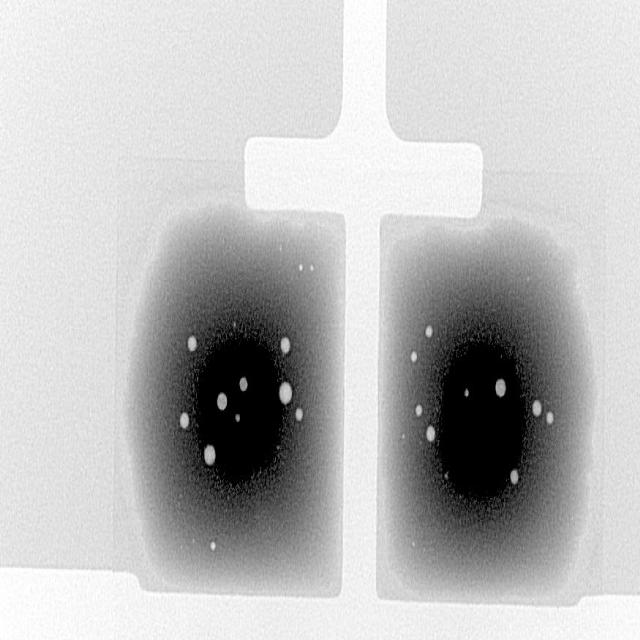component: (113, 162, 607, 601)
void: (279, 381, 293, 405), (204, 444, 216, 465), (496, 378, 508, 397), (217, 392, 227, 410), (426, 425, 436, 442), (533, 399, 543, 416), (239, 375, 248, 392), (511, 468, 520, 485), (180, 412, 189, 428), (282, 337, 290, 353), (188, 335, 196, 350), (547, 410, 555, 424), (295, 408, 303, 420), (415, 404, 423, 416), (426, 325, 434, 336), (411, 350, 418, 362), (210, 541, 216, 552), (465, 388, 470, 397), (299, 263, 304, 270), (236, 413, 240, 421), (233, 321, 236, 327), (311, 265, 314, 270)
